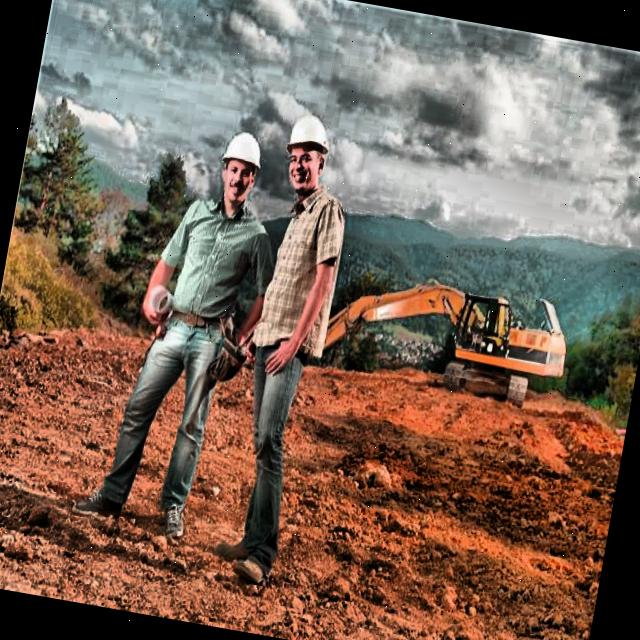helmet: (272, 109, 338, 204), (208, 120, 272, 216)
